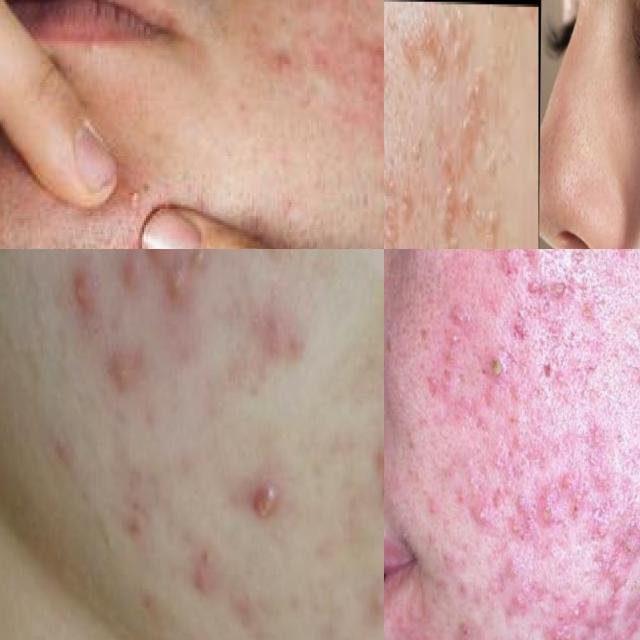crystanlline: (526, 272, 595, 311), (534, 496, 561, 538), (513, 587, 545, 619), (515, 249, 550, 270), (552, 621, 589, 640)
flat_wart: (384, 5, 490, 145), (410, 164, 506, 249), (384, 150, 428, 249)
papule: (133, 249, 174, 262)
pustule: (235, 458, 299, 544), (59, 266, 107, 322), (164, 256, 192, 306), (489, 345, 515, 393), (189, 249, 210, 276)
